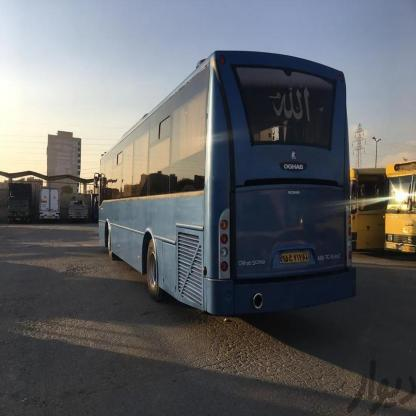Bus: (97, 40, 359, 326), (350, 162, 385, 260), (385, 156, 416, 263)
Truck: (8, 183, 31, 224), (42, 189, 62, 222)
